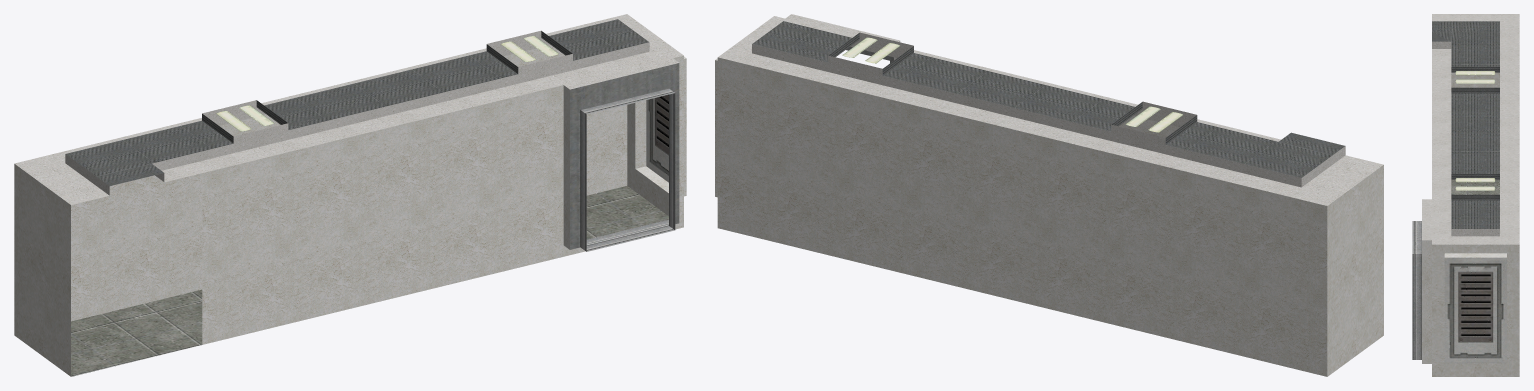
The model's file is ply_corl_house_sm_s01_fp1_r2_hall_mesh.fbx.
3 views of the same model, side by side, from view 1: azimuth 30°, elevation 25°; view 2: azimuth 150°, elevation 25°; view 3: azimuth 270°, elevation 25° (orthographic). The views are drawn at different scales.
Parts seen in each view (by area): view 1: mesh_node; view 2: mesh_node; view 3: mesh_node.
Boxes of the visible parts, x1,y1,x2,y2 form: mesh_node: [14, 14, 686, 376]; mesh_node: [715, 14, 1383, 376]; mesh_node: [1412, 14, 1519, 376].
Bounding box in the file's own units: 14.25 × 4.11 × 2.75.
